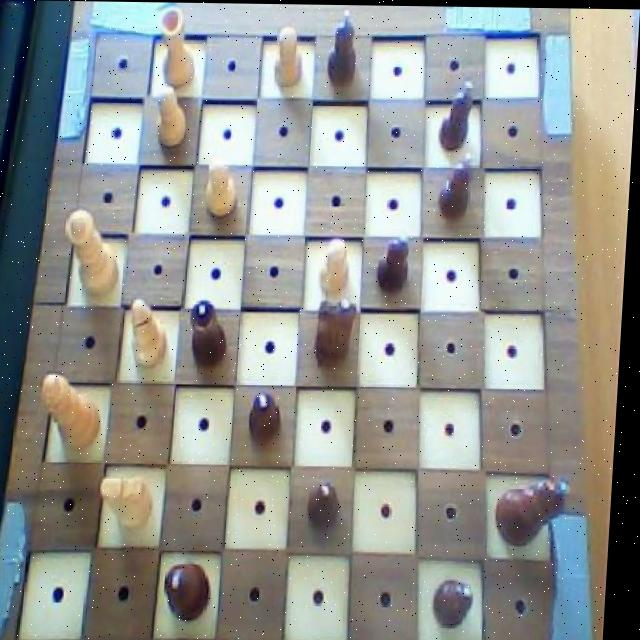black-bishop: (499, 472, 580, 549)
black-king: (310, 291, 365, 372)
black-knight: (322, 5, 366, 90), (434, 148, 480, 227), (377, 223, 421, 299), (438, 75, 480, 154), (250, 383, 293, 448), (435, 578, 487, 631), (310, 476, 350, 531)
black-pawn: (166, 556, 222, 626)
black-queen: (190, 295, 237, 371)
black-rook: (129, 292, 175, 374)
white-bishop: (41, 368, 112, 456)
white-king: (103, 467, 165, 535)
white-knight: (203, 148, 244, 220), (153, 84, 192, 152), (272, 21, 307, 90), (320, 233, 357, 297)
white-pawn: (62, 206, 126, 298)
white-queen: (155, 2, 200, 90)
